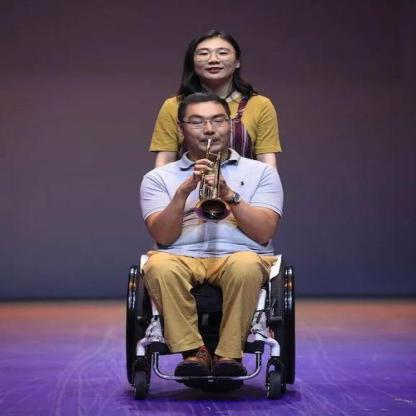wheelchair: (119, 89, 298, 402)
